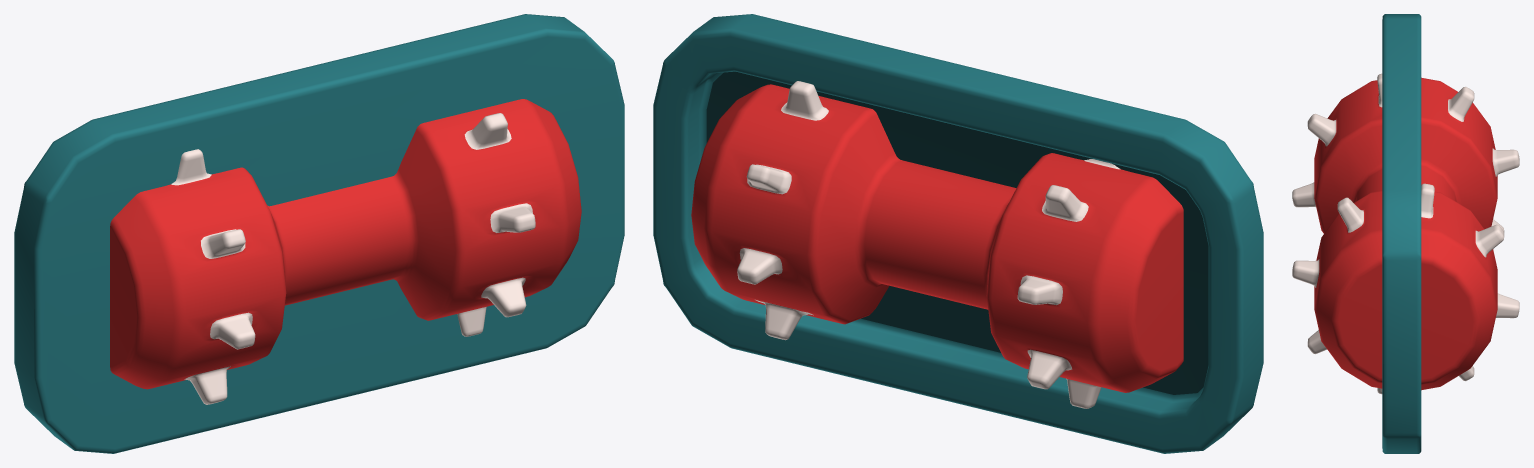
The picture shows the model from 3 angles, left to right: view 1: azimuth 30°, elevation 25°; view 2: azimuth 150°, elevation 25°; view 3: azimuth 270°, elevation 25°; orthographic projection. The views are drawn at different scales.
Parts seen in each view (by area): view 1: Plane.003, Cylinder.018; view 2: Plane.003, Cylinder.018; view 3: Cylinder.018, Plane.003.
Part boxes in pixels (x1,y1,x2,y2): Plane.003: [14, 14, 624, 453]; Cylinder.018: [110, 99, 581, 404]; Plane.003: [653, 14, 1263, 453]; Cylinder.018: [691, 81, 1183, 408]; Cylinder.018: [1292, 73, 1519, 394]; Plane.003: [1382, 14, 1421, 453].
Bounding box in the file's own units: 3.25 × 1.68 × 1.34.
